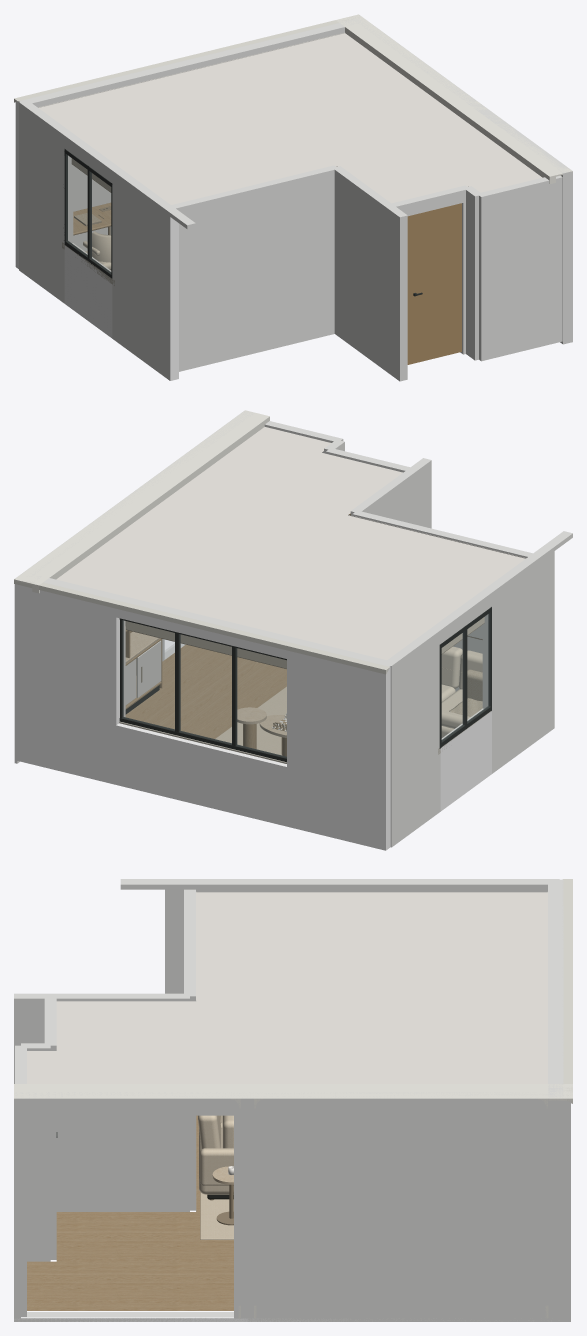
3 renders of one model, top to bottom at view 1: azimuth 30°, elevation 25°; view 2: azimuth 150°, elevation 25°; view 3: azimuth 270°, elevation 25°, orthographic. The views are drawn at different scales.
Parts seen in each view (by area): view 1: Family 01 | ivory ceiling.001, Proposal | Side shared bathroom north.001, Proposal | Side hall south flare edge.001, Proposal | Side shared bathroom east.001, Proposal | Side bedrooms west pier 2.001, Proposal | Side bedroom south door leaf.001, Proposal | Side bedrooms west end pier.001, Roof join | West soffit.001, Proposal | Side bedrooms west window 2 glass.001, Proposal | Side wing rear roof wall closure 0.001, Proposal | Side bedrooms west sill 2.001, Roof join | West fascia.001 (+14 smaller); view 2: Family 01 | ivory ceiling.001, Proposal | Side bedrooms rear pier 0.001, Proposal | Side bedrooms rear end pier.001, Proposal | Side bedrooms rear window 0 glass.001, Proposal | Side bedrooms west pier 2.001, Proposal | Side bedrooms rear sill 0.001, Proposal | Side bedrooms west end pier.001, Family 01 | wide oak floor.001, Roof join | West soffit.001, Proposal | Side bedrooms west window 2 glass.001, Proposal | Side bedrooms west sill 2.001, Proposal | Joined roof lining 077 | Side wing continued rear (+18 smaller); view 3: Family 01 | ivory ceiling.001, Proposal revision | First west | end.001, Family 01 | wide oak floor.001, Proposal | Side shared bathroom east.001, Roof join | West soffit.001, Proposal | Side wing west roof wall closure 2.001, Proposal revision | Bedroom 3 rear | pier 0.001, Proposal revision | First west | lintel 0.001, Proposal | Side hall south flare return.001, Proposal | Side wing rear roof wall closure 0.001, Proposal revision | Exterior brick floor band First west.001, Proposal revision | Bedroom 3 to 5 | end.001 (+11 smaller).
Part boxes in pixels (x1,y1,x2,y2): Family 01 | ivory ceiling.001: (39,33,542,204); Proposal | Side shared bathroom north.001: (171,165,335,371); Proposal | Side hall south flare edge.001: (477,175,562,361); Proposal | Side shared bathroom east.001: (333,166,407,381); Proposal | Side bedrooms west pier 2.001: (112,175,178,380); Proposal | Side bedroom south door leaf.001: (407,203,461,364); Proposal | Side bedrooms west end pier.001: (19,106,64,303); Roof join | West soffit.001: (340,14,571,176); Proposal | Side bedrooms west window 2 glass.001: (67,155,110,272); Proposal | Side wing rear roof wall closure 0.001: (15,18,360,106); Proposal | Side bedrooms west sill 2.001: (64,245,112,338); Roof join | West fascia.001: (336,18,555,183); Family 01 | ivory ceiling.001: (56,427,525,660); Proposal | Side bedrooms rear pier 0.001: (287,650,390,850); Proposal | Side bedrooms rear end pier.001: (17,584,119,784); Proposal | Side bedrooms rear window 0 glass.001: (123,620,286,757); Proposal | Side bedrooms west pier 2.001: (492,551,554,773); Proposal | Side bedrooms rear sill 0.001: (116,723,286,826); Proposal | Side bedrooms west end pier.001: (390,635,440,847); Family 01 | wide oak floor.001: (125,644,286,738); Roof join | West soffit.001: (14,410,267,585); Proposal | Side bedrooms west window 2 glass.001: (442,613,489,740); Proposal | Side bedrooms west sill 2.001: (440,711,491,811); Proposal | Joined roof lining 077 | Side wing continued rear: (28,580,389,674); Family 01 | ivory ceiling.001: (27,892,547,1083); Proposal revision | First west | end.001: (234,1092,559,1318); Family 01 | wide oak floor.001: (27,1115,233,1310); Proposal | Side shared bathroom east.001: (14,993,189,1211); Roof join | West soffit.001: (14,1085,572,1098); Proposal | Side wing west roof wall closure 2.001: (120,879,545,889); Proposal revision | Bedroom 3 rear | pier 0.001: (548,1100,570,1318); Proposal revision | First west | lintel 0.001: (32,1092,233,1115); Proposal | Side hall south flare return.001: (21,1043,50,1261); Proposal | Side wing rear roof wall closure 0.001: (548,879,563,1097); Proposal revision | Exterior brick floor band First west.001: (14,1312,559,1321); Proposal revision | Bedroom 3 to 5 | end.001: (241,1097,253,1318).
Bounding box in the file's own units: 5.23 × 2.48 × 5.62.
20 materials, 4 textured.
